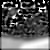node: (9, 8, 16, 16)
